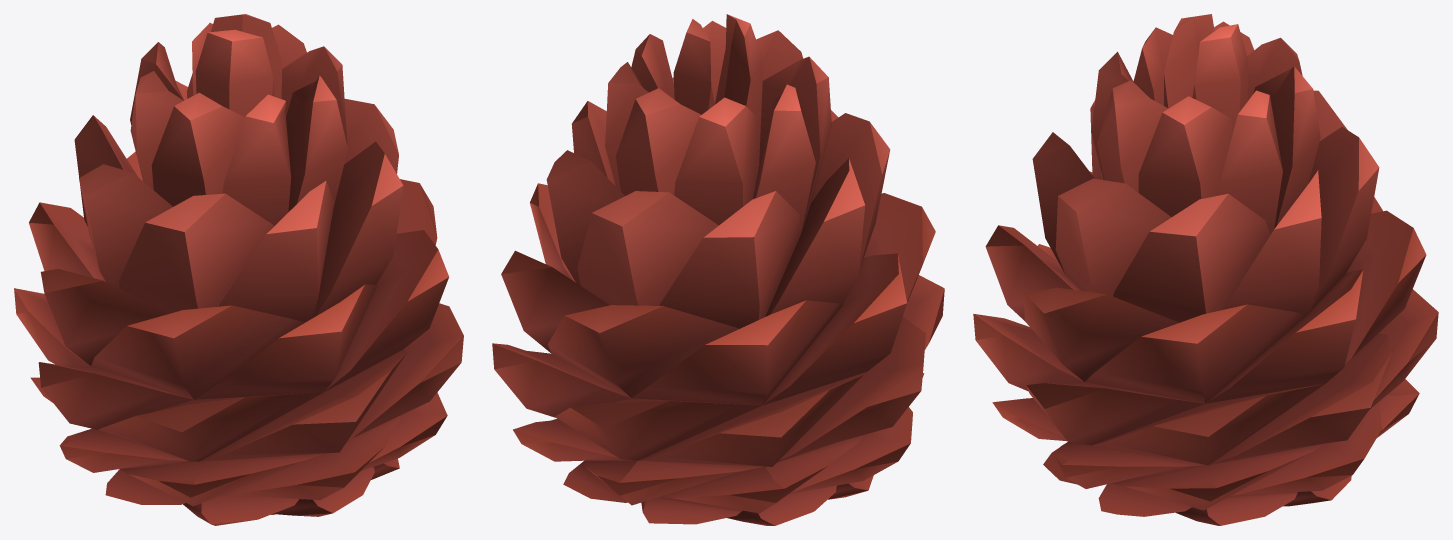
File: Pinecone.gltf
The picture shows the model from 3 angles, left to right: view 1: azimuth 30°, elevation 25°; view 2: azimuth 150°, elevation 25°; view 3: azimuth 270°, elevation 25°; orthographic projection.
Visible parts, largest first — view 1: Pinecone; view 2: Pinecone; view 3: Pinecone.
Boxes of the visible parts, left/top/right/bottom form: Pinecone: left=14, top=14, right=463, bottom=525; Pinecone: left=492, top=14, right=944, bottom=525; Pinecone: left=973, top=14, right=1438, bottom=525.
Bounding box in the file's own units: 90.13 × 99.82 × 90.13.
